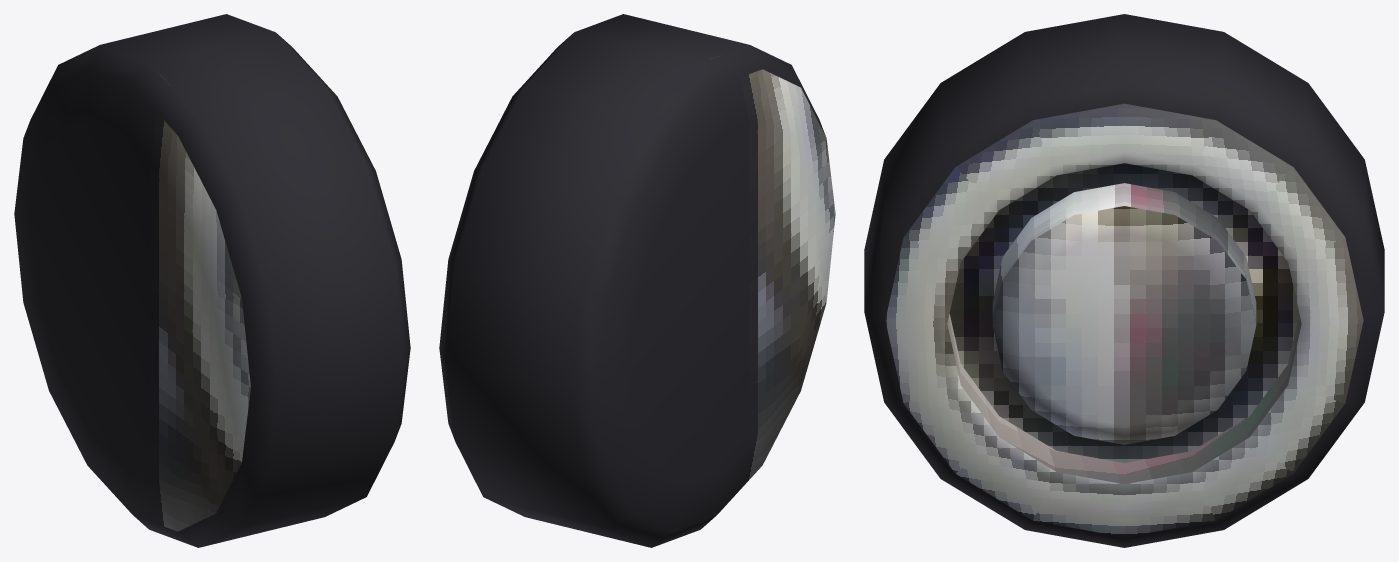
Rendered from big wheel wheel.glb.
3 renders of one model, left to right at view 1: azimuth 30°, elevation 25°; view 2: azimuth 150°, elevation 25°; view 3: azimuth 270°, elevation 25°, orthographic.
Parts seen in each view (by area): view 1: Cylinder.009; view 2: Cylinder.009; view 3: Cylinder.009.
Part boxes in pixels (x1,y1,x2,y2): Cylinder.009: [14, 14, 410, 547]; Cylinder.009: [439, 14, 835, 547]; Cylinder.009: [864, 14, 1384, 547].
Size of the model in its own units: 0.6427 by 1.55 by 1.55.
Materials: 1 (1 with a texture image).
